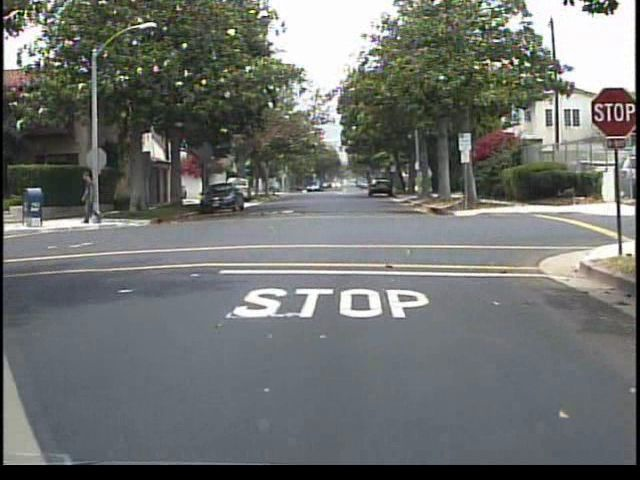person: (77, 165, 107, 229)
